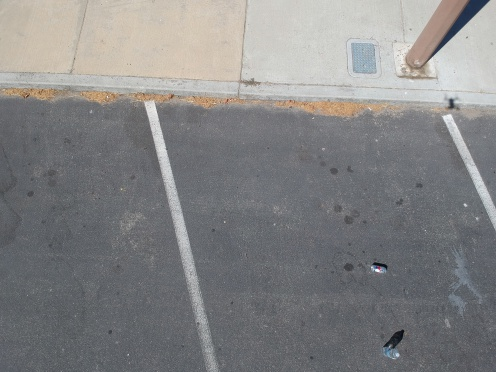bottle: (378, 343, 406, 363)
can: (367, 261, 389, 277)
